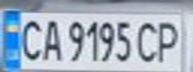1: (81, 17, 100, 62)
5: (115, 17, 136, 63)
9: (97, 17, 118, 63), (63, 17, 84, 62)
A: (39, 16, 63, 62)
C: (15, 16, 45, 62), (133, 17, 163, 63)
P: (151, 17, 187, 64)
